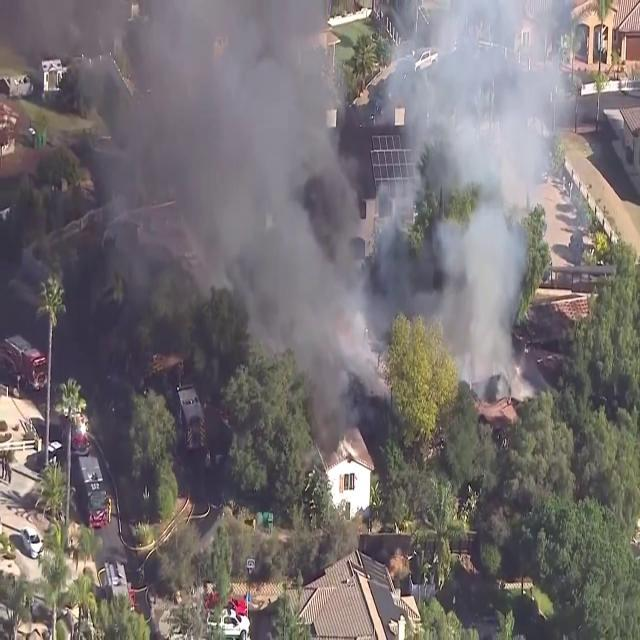Smoke: (99, 0, 571, 394)
